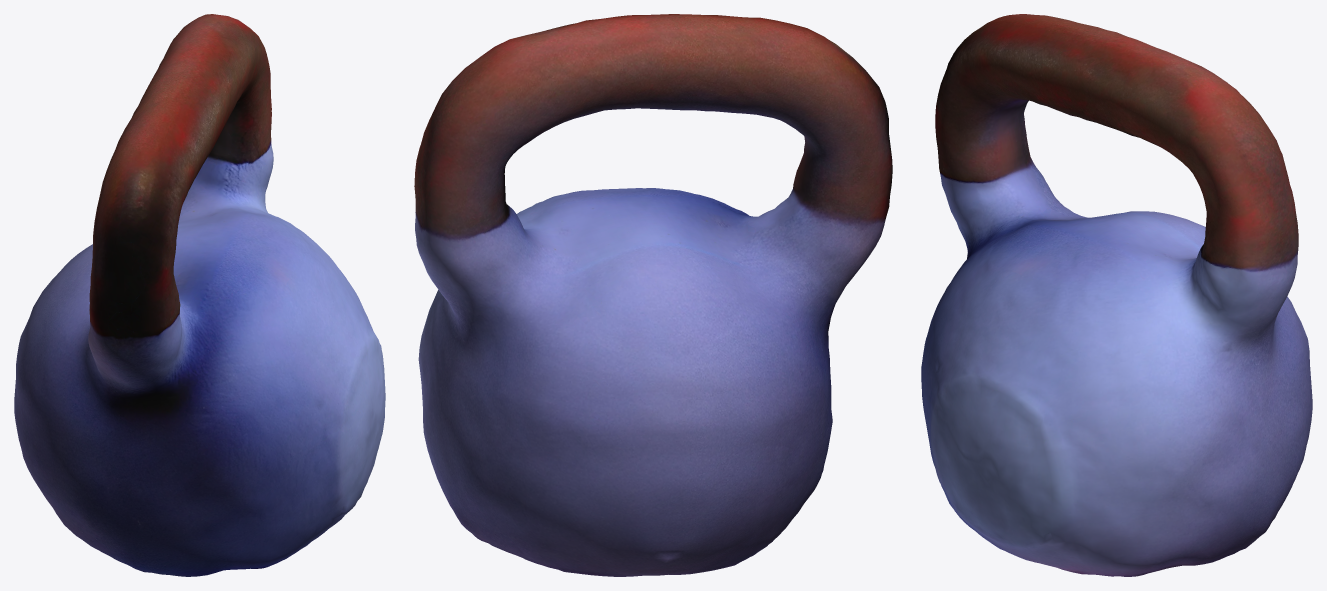
File: Stack 4B - Kettlebell.glb
3 renders of one model, left to right at view 1: azimuth 30°, elevation 25°; view 2: azimuth 150°, elevation 25°; view 3: azimuth 270°, elevation 25°, orthographic. The views are drawn at different scales.
Visible parts, largest first — view 1: Kettlebell; view 2: Kettlebell; view 3: Kettlebell.
Part boxes in pixels (x1,y1,x2,y2): Kettlebell: (14, 14, 385, 576); Kettlebell: (414, 14, 892, 576); Kettlebell: (921, 14, 1312, 576).
Size of the model in its own units: 0.7412 by 1 by 0.7261.
Materials: 1 (1 with a texture image).
